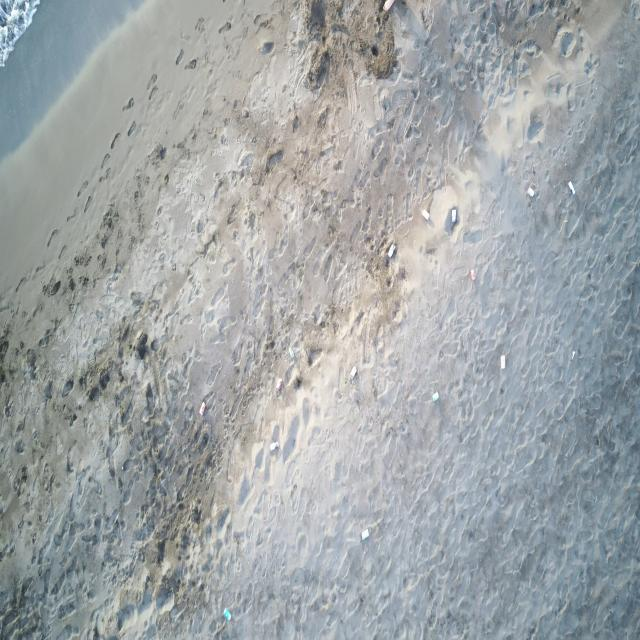tin-and-aluminum-cans: (360, 527, 370, 542), (568, 181, 576, 196), (222, 607, 231, 620), (269, 441, 279, 452), (349, 365, 356, 379), (276, 377, 283, 391), (199, 401, 206, 415), (422, 209, 430, 221), (500, 354, 506, 370), (451, 208, 457, 223), (388, 244, 395, 256), (527, 187, 535, 197), (288, 346, 294, 358), (470, 269, 476, 280), (433, 392, 439, 401)
